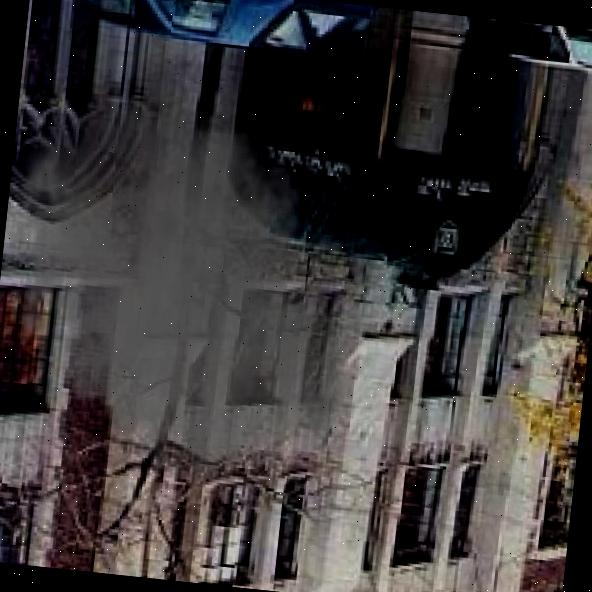smoke: (0, 48, 385, 507)
